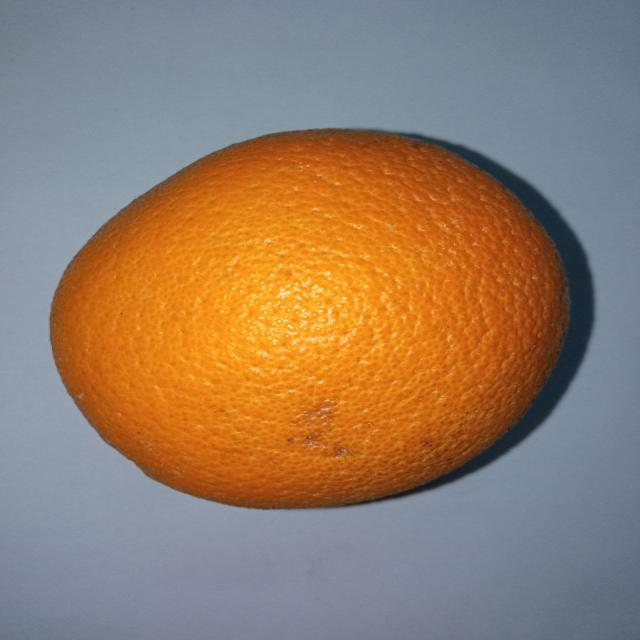fresh_orange: (49, 128, 570, 508)
